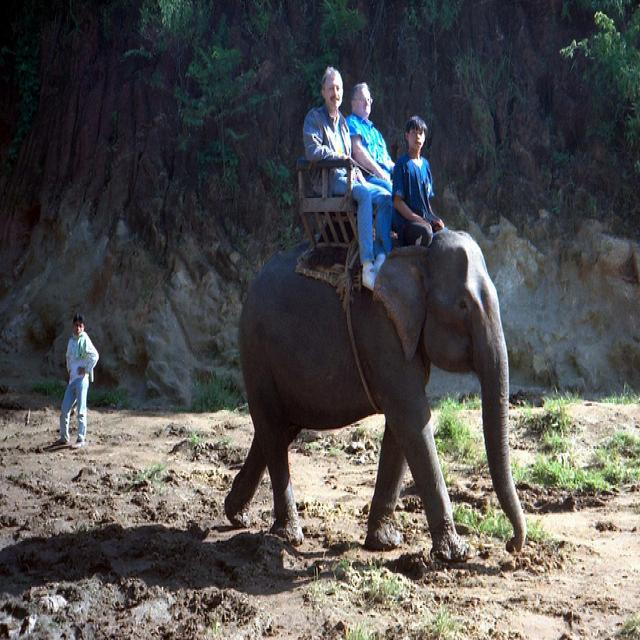Elephant: (223, 227, 527, 562)
person: (302, 66, 393, 292), (391, 114, 445, 247), (58, 312, 99, 448)
